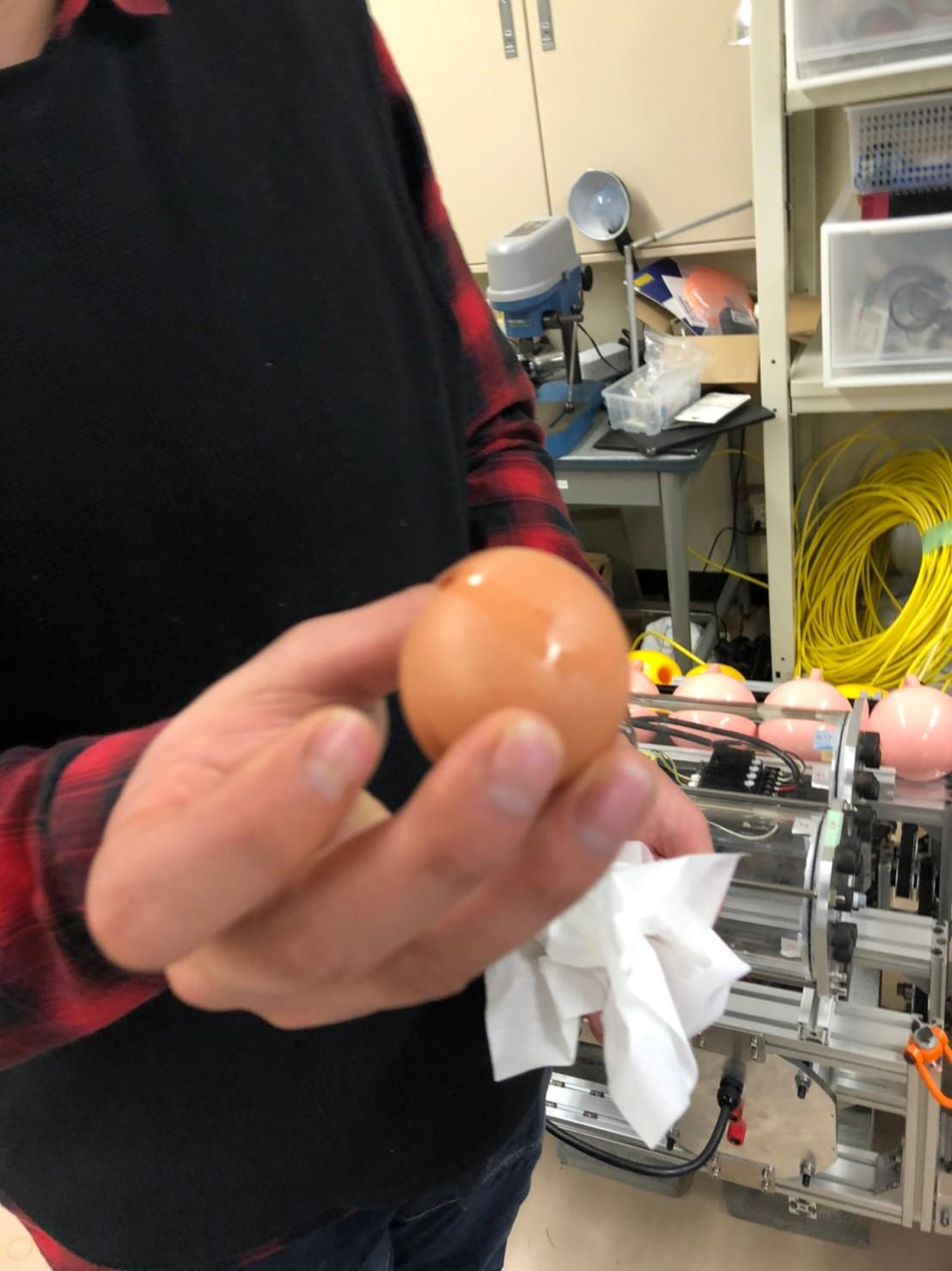egg: (395, 546, 638, 786)
